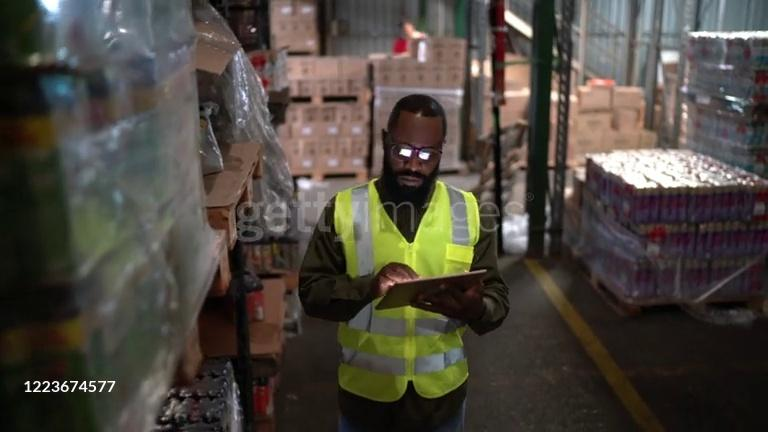person: (296, 96, 509, 432)
